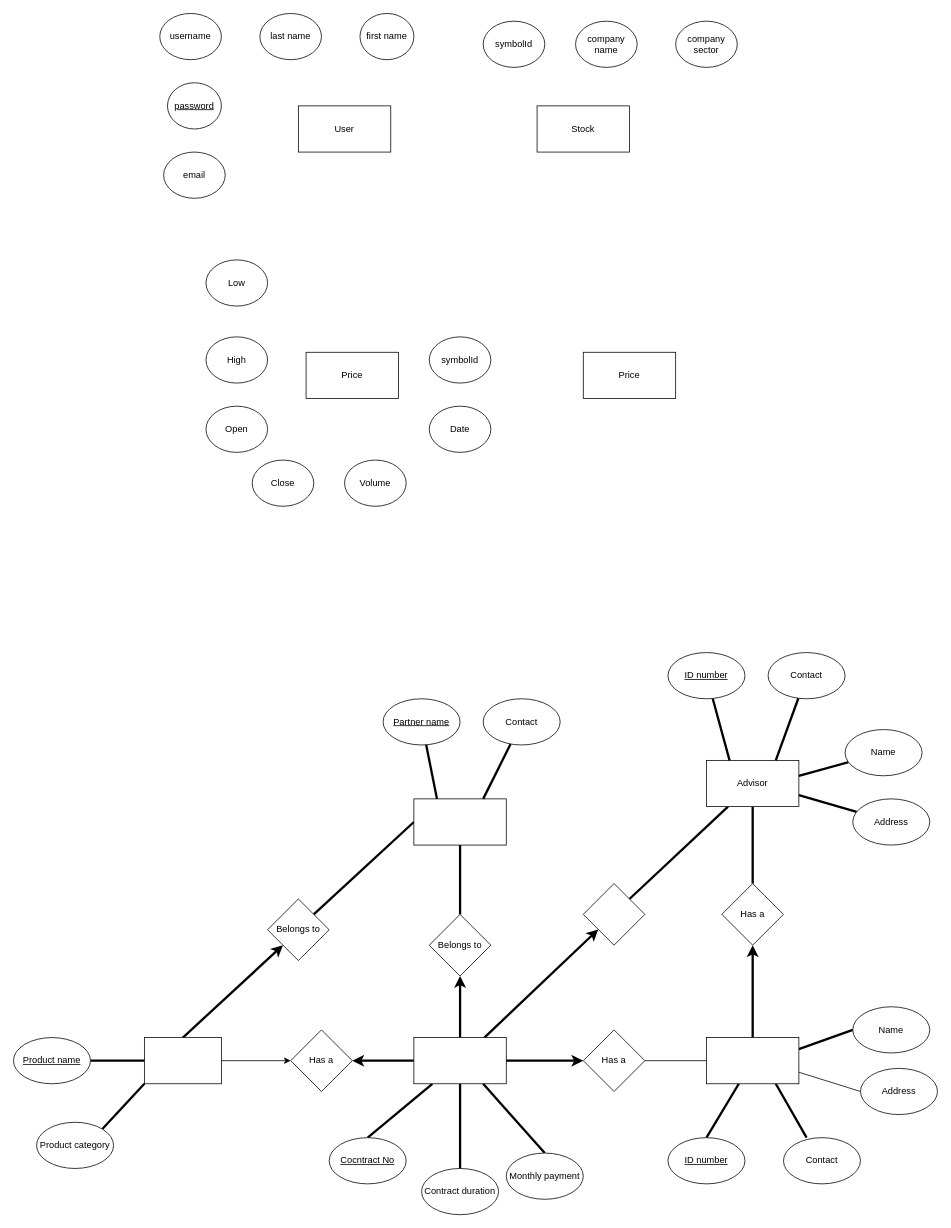
This 951x1228 diagram has some shape labels left out. The centre of each missing label's shape, as x and y in pixels:
"Client" goes at [752,1060].
"Contract" goes at [459,1060].
"Partner" goes at [459,821].
"Product" goes at [182,1060].
"Signed a" goes at [614,914].
